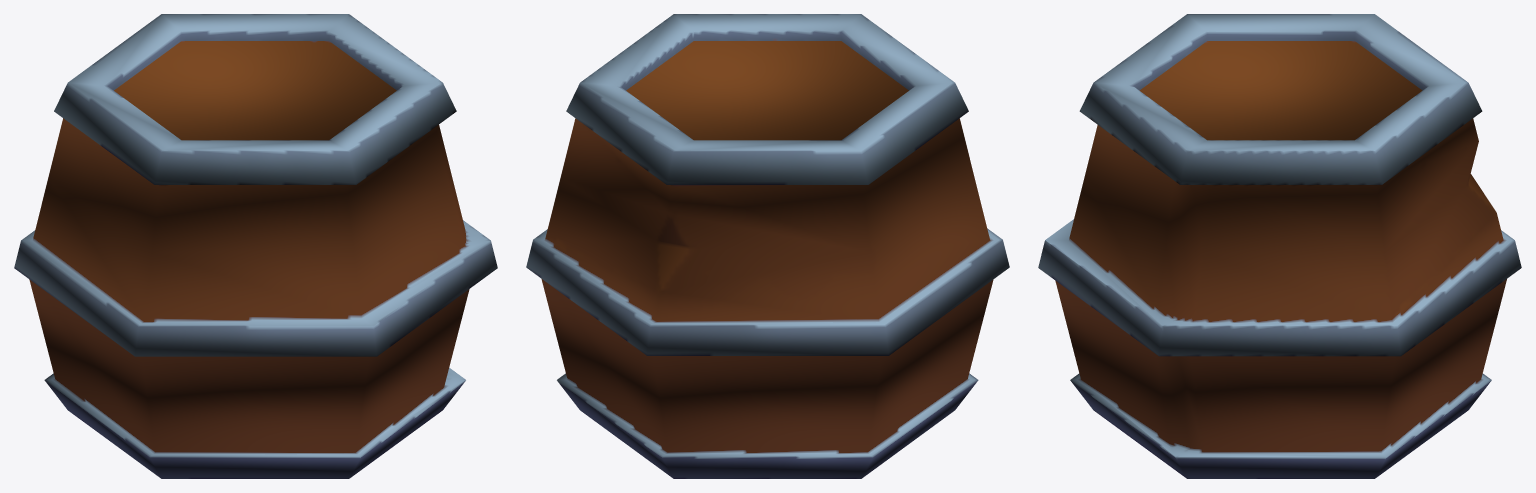
File: Barrel.glb
3 renders of one model, left to right at view 1: azimuth 30°, elevation 25°; view 2: azimuth 150°, elevation 25°; view 3: azimuth 270°, elevation 25°, orthographic.
Visible parts, largest first — view 1: misc013; view 2: misc013; view 3: misc013.
Boxes of the visible parts, x1,y1,x2,y2 form: misc013: (14, 14, 497, 478); misc013: (526, 14, 1009, 478); misc013: (1038, 14, 1521, 478).
Size of the model in its own units: 0.0152 by 0.0131 by 0.0175.
1 material, 1 textured.
